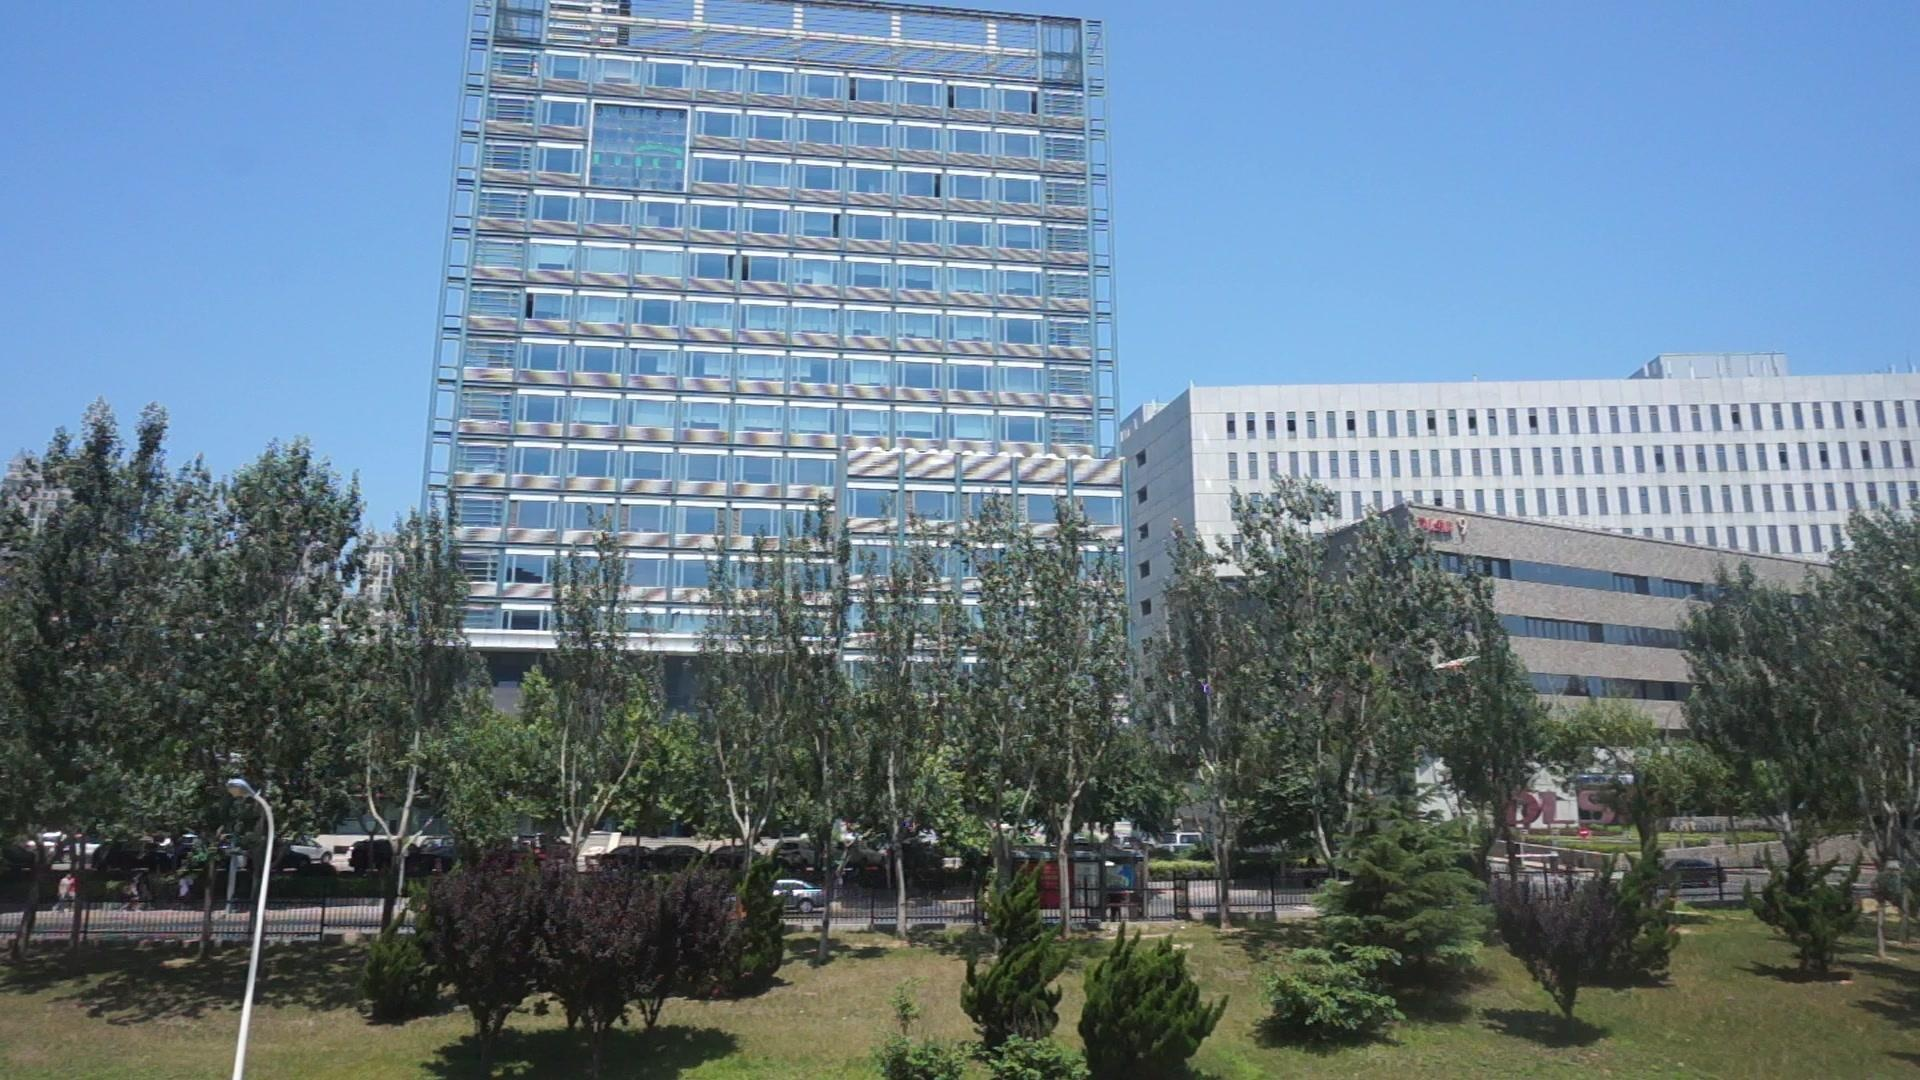UAV: (1435, 655, 1482, 676)
